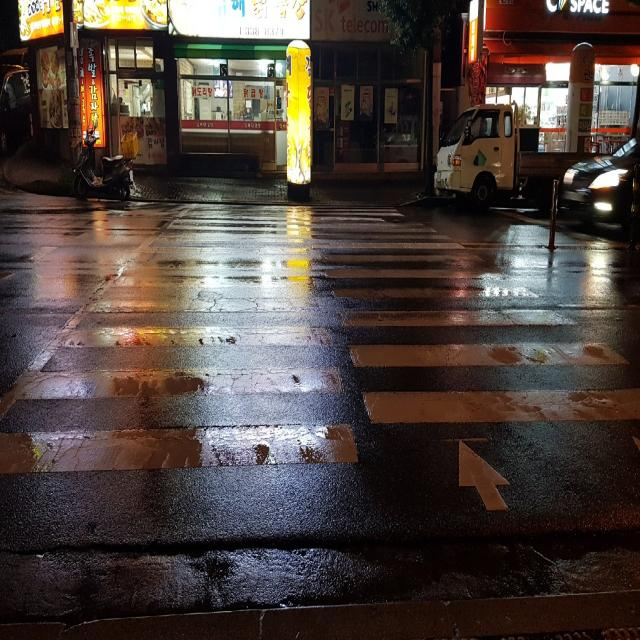횡단보도: (0, 196, 638, 509)
